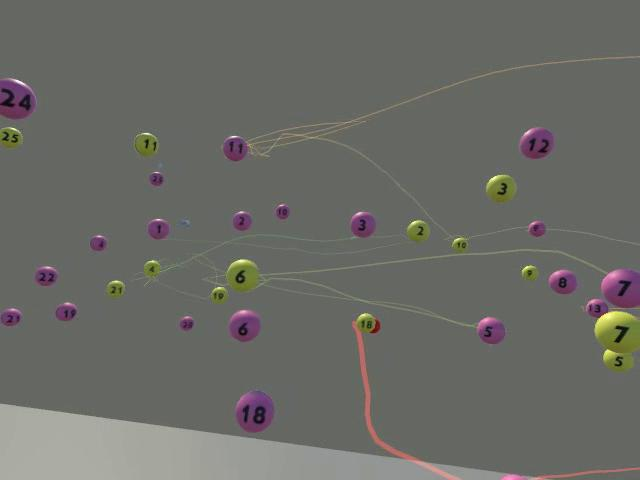ball_01_pink: (147, 218, 169, 239)
ball_02_pink: (233, 212, 251, 230)
ball_02_yellow: (406, 219, 429, 242)
ball_03_pink: (350, 211, 376, 237)
ball_03_yellow: (485, 174, 516, 202)
ball_04_pink: (89, 235, 107, 251)
ball_04_yellow: (143, 260, 160, 277)
ball_05_pink: (477, 318, 505, 345)
ball_05_yellow: (602, 348, 633, 372)
ball_06_pink: (228, 311, 260, 342)
ball_06_yellow: (226, 258, 258, 292)
ball_07_pink: (600, 268, 639, 308)
ball_07_yellow: (594, 310, 640, 353)
ball_08_pink: (548, 269, 576, 294)
ball_09_pink: (527, 220, 545, 236)
ball_09_yellow: (521, 264, 538, 281)
ball_10_pink: (274, 203, 289, 219)
ball_10_yellow: (451, 237, 467, 252)
ball_11_pink: (222, 135, 247, 161)
ball_11_yellow: (134, 132, 158, 156)
ball_12_pink: (519, 127, 553, 159)
ball_13_pink: (584, 297, 607, 316)
ball_18_pink: (235, 390, 274, 432)
ball_18_yellow: (356, 312, 374, 332)
ball_19_pink: (56, 303, 76, 322)
ball_19_yellow: (210, 286, 228, 303)
ball_20_pink: (181, 317, 194, 331)
ball_21_pink: (0, 307, 21, 326)
ball_21_yellow: (105, 279, 125, 297)
ball_22_pink: (34, 265, 57, 286)
ball_24_pink: (1, 77, 37, 119)
ball_25_pink: (149, 171, 164, 187)
ball_25_yellow: (0, 126, 22, 148)
ball_unknown: (500, 473, 527, 479)
user_cursor: (370, 317, 380, 333)
